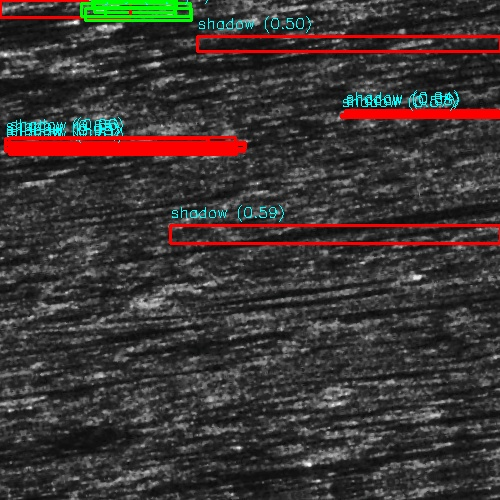rock: (297, 0, 432, 17), (391, 11, 500, 26), (236, 143, 277, 154), (421, 147, 500, 152), (486, 63, 500, 80)
shadow: (257, 143, 500, 154), (365, 0, 500, 17), (0, 113, 156, 116), (463, 147, 500, 152), (0, 131, 31, 136)
